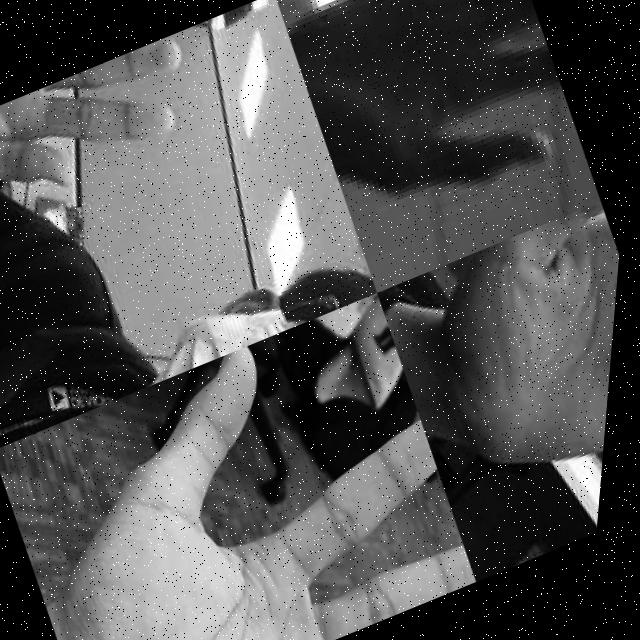hand: (0, 292, 503, 640), (256, 0, 595, 242), (394, 200, 627, 510), (0, 33, 221, 258)
